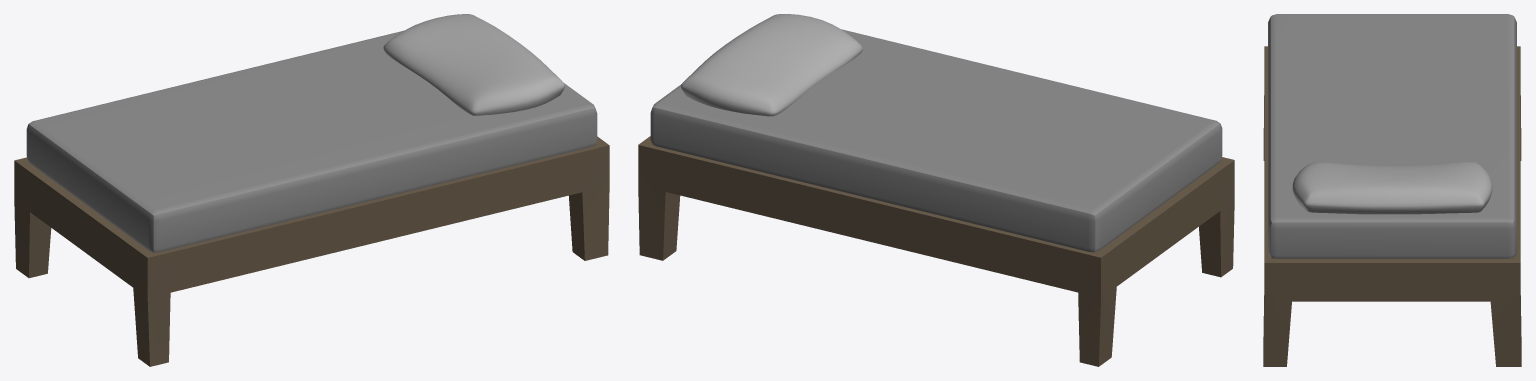
The model's file is letto.fbx.
3 renders of one model, left to right at view 1: azimuth 30°, elevation 25°; view 2: azimuth 150°, elevation 25°; view 3: azimuth 270°, elevation 25°, orthographic. The views are drawn at different scales.
Visible parts, largest first — view 1: MSH_letto; view 2: MSH_letto; view 3: MSH_letto.
Boxes of the visible parts, <box> form: MSH_letto: <box>14,14,609,366</box>; MSH_letto: <box>638,14,1234,366</box>; MSH_letto: <box>1263,14,1521,366</box>.
Bounding box in the file's own units: 22.86 × 8.17 × 11.53.
